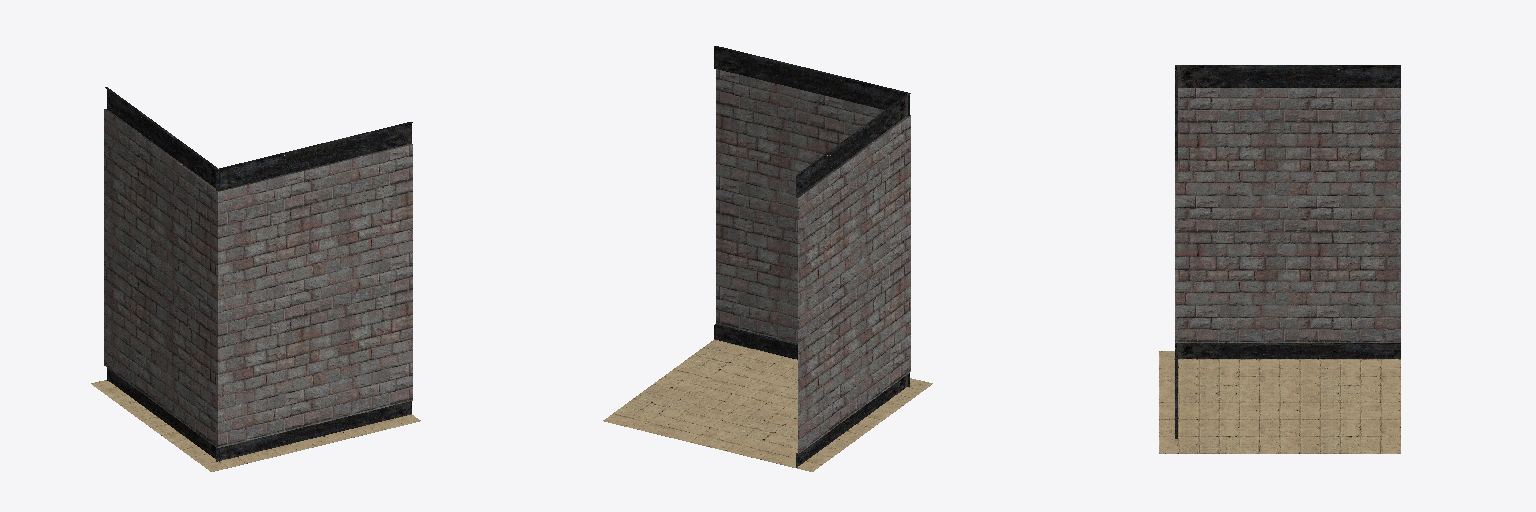
The picture shows the model from 3 angles: view 1: azimuth 30°, elevation 25°; view 2: azimuth 150°, elevation 25°; view 3: azimuth 270°, elevation 25°; orthographic projection.
Parts seen in each view (by area): view 1: Box107, Box108, Object239, Plane02, Object242, Object240, Object243; view 2: Box108, Box107, Plane02, Object239, Object242, Object243, Object240; view 3: Box108, Plane02, Object242, Object243.
Part boxes in pixels (bbox=[...]): Box107: bbox=[218, 145, 412, 447]; Box108: bbox=[104, 109, 217, 447]; Object239: bbox=[216, 122, 412, 190]; Plane02: bbox=[91, 380, 420, 471]; Object242: bbox=[105, 87, 219, 191]; Object240: bbox=[216, 401, 411, 461]; Object243: bbox=[107, 368, 219, 461]; Box108: bbox=[798, 116, 910, 453]; Box107: bbox=[716, 69, 884, 343]; Plane02: bbox=[603, 339, 932, 471]; Object239: bbox=[714, 46, 909, 115]; Object242: bbox=[796, 93, 910, 197]; Object243: bbox=[796, 374, 907, 467]; Object240: bbox=[714, 324, 909, 386]; Box108: bbox=[1175, 88, 1400, 342]; Plane02: bbox=[1159, 351, 1400, 453]; Object242: bbox=[1175, 65, 1400, 87]; Object243: bbox=[1175, 343, 1400, 358].
Bounding box in the file's own units: 3 × 4 × 3.
3 materials, 3 textured.